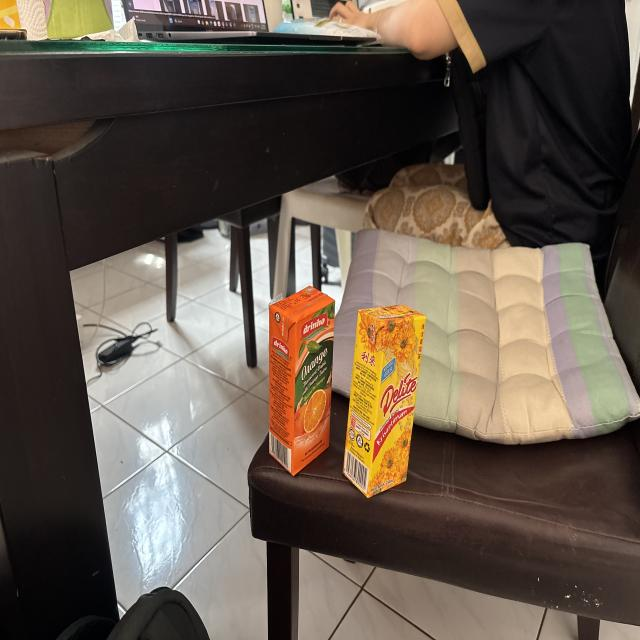drink_carton: (338, 293, 431, 505), (263, 280, 339, 480)
